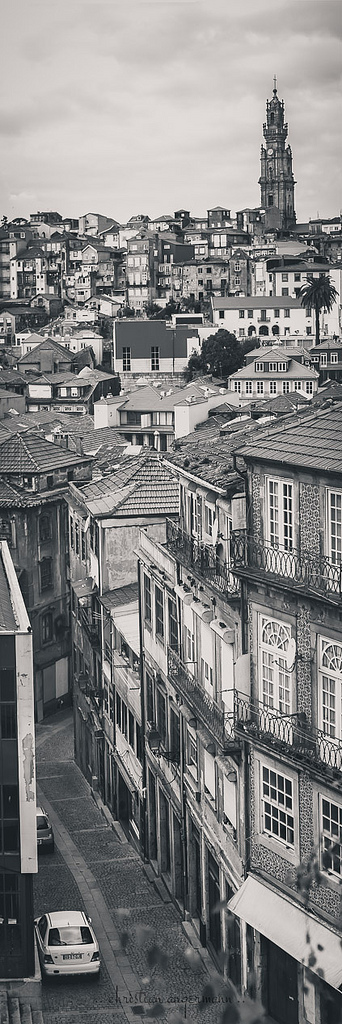clerigos: (258, 74, 298, 229)
